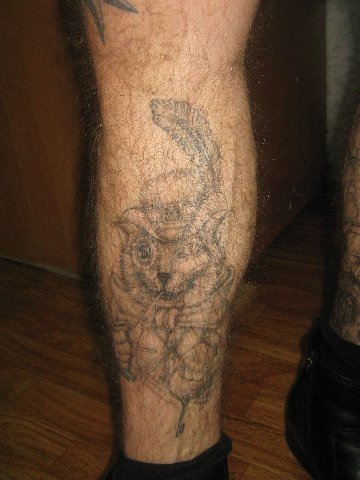tatu8_kot: (102, 91, 237, 428)
